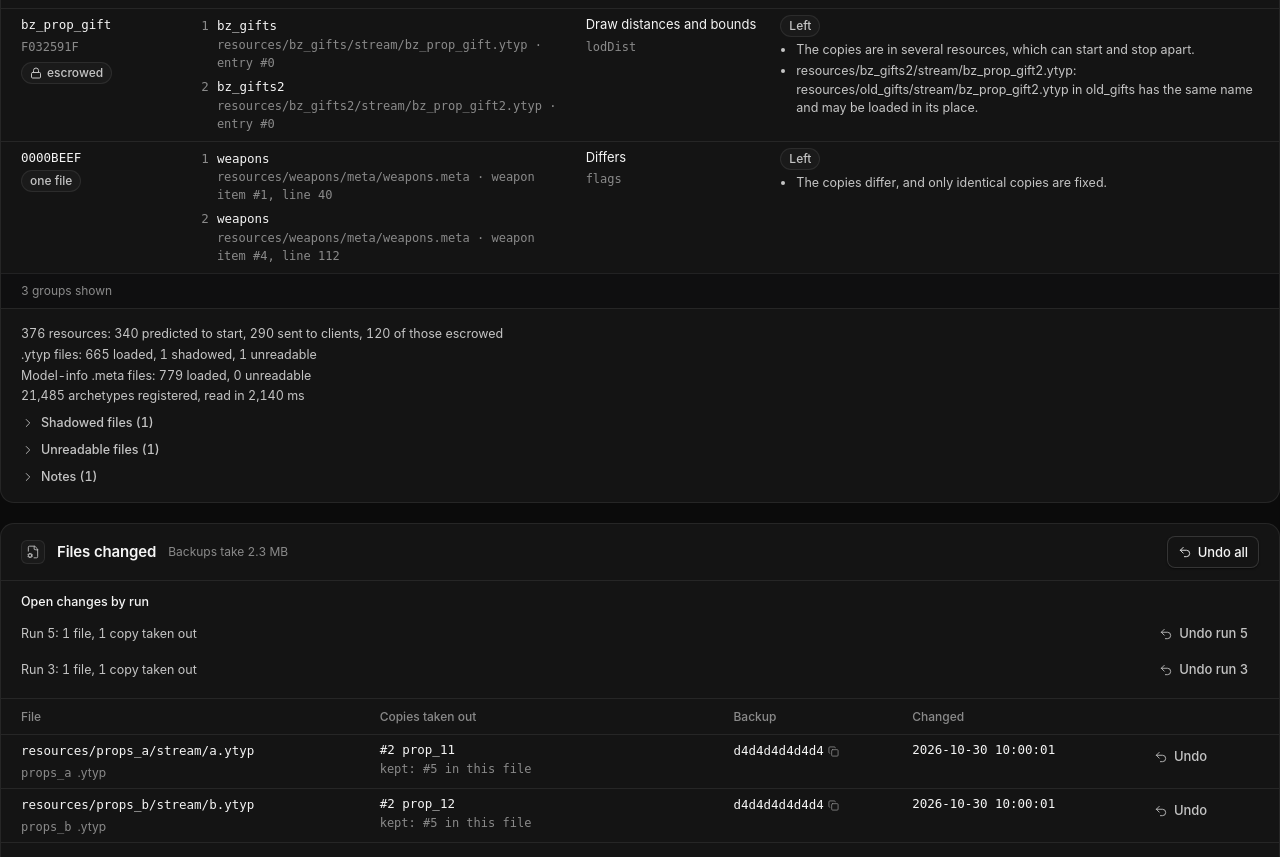
Test: ArchetypesPage › should explain the tool, then show the last run, its counts and what the report found
(page scrolled)
Expected: the text "0000BEEF" is shown, [21,150,81,165]
Expected: the list item "The copies are in several resources, which can start and stop apart." is shown, [796,41,1259,60]
Click the button "Unreadable files (1)".
click(90, 450)  # box [21,441,160,460]
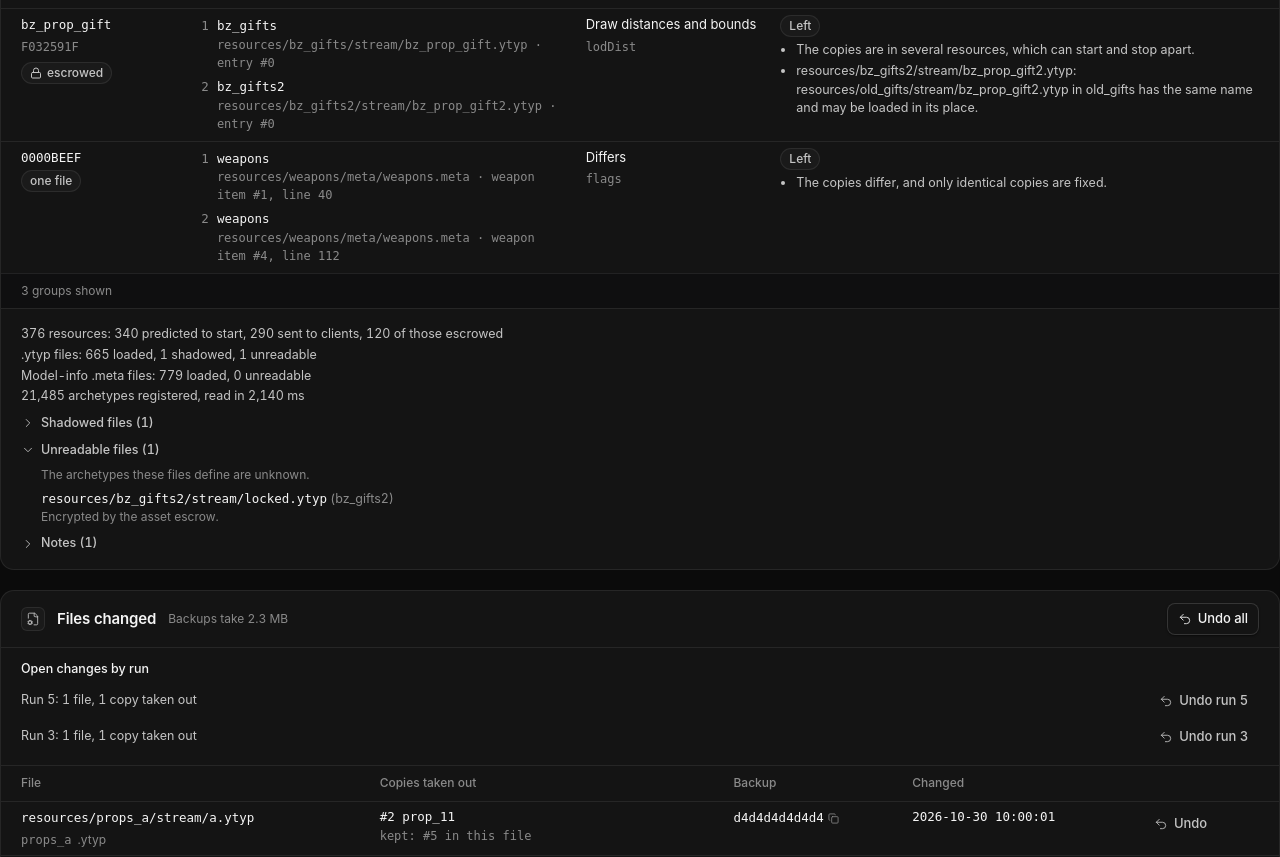
Expected: the text "Encrypted by the asset escrow." is shown, [41,509,219,524]
Click the button "Notes (1)".
click(59, 544)  # box [21,534,97,553]
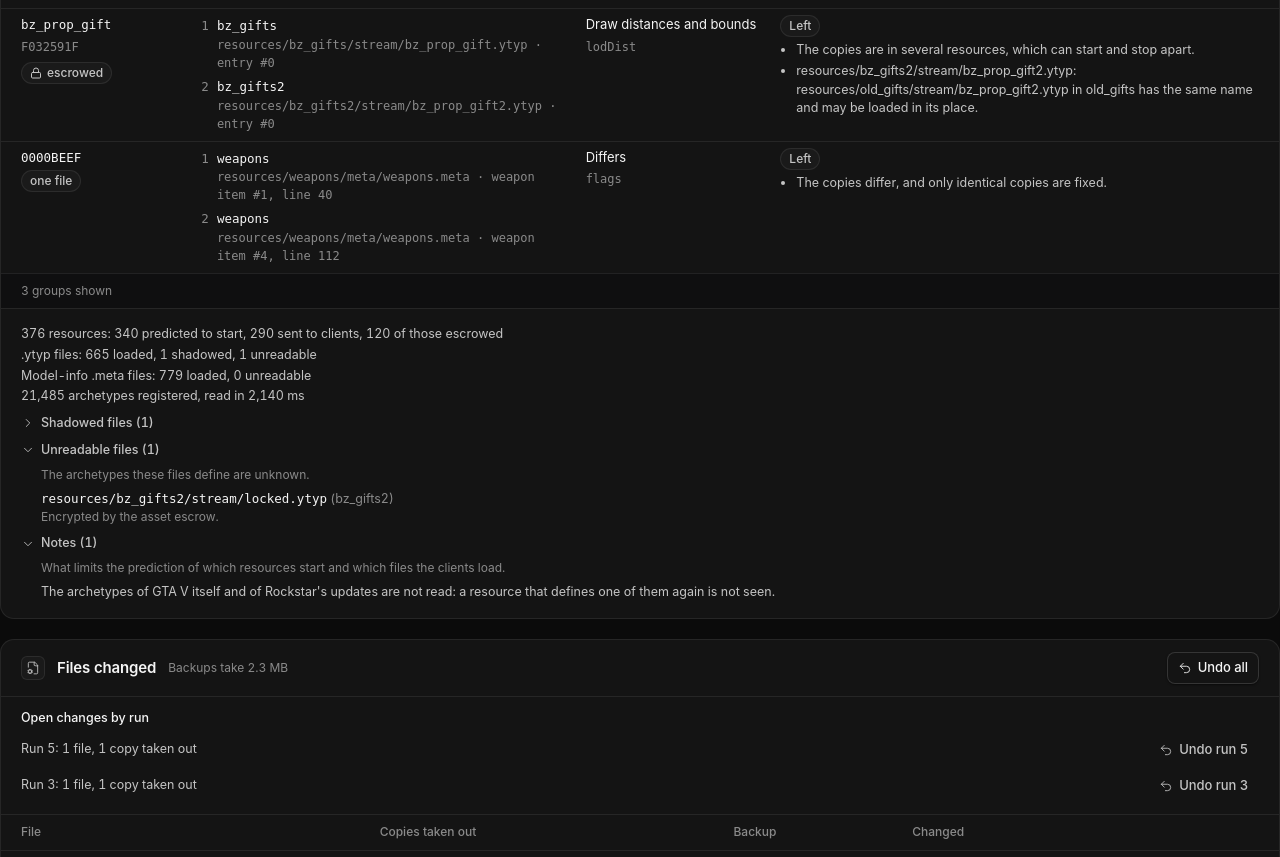
Expected: the list item "The archetypes of GTA V itself and of Rockstar's updates are not read: a resource that defines one of them again is not " is shown, [41,584,775,599]
